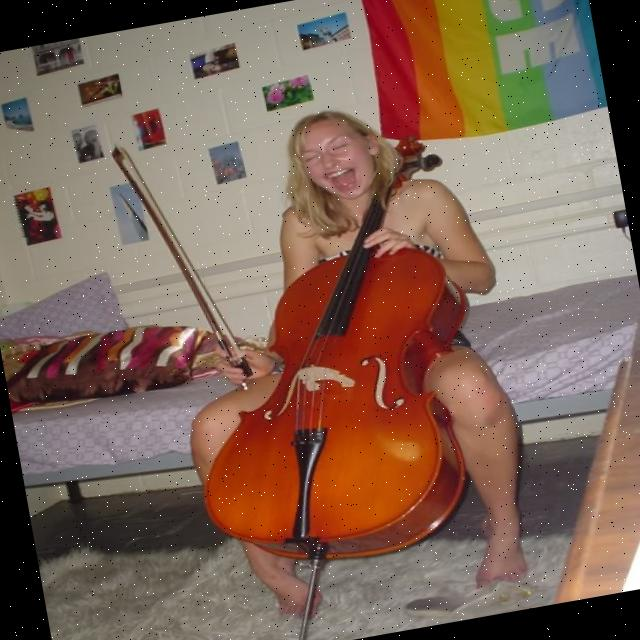cello: (148, 130, 514, 590)
